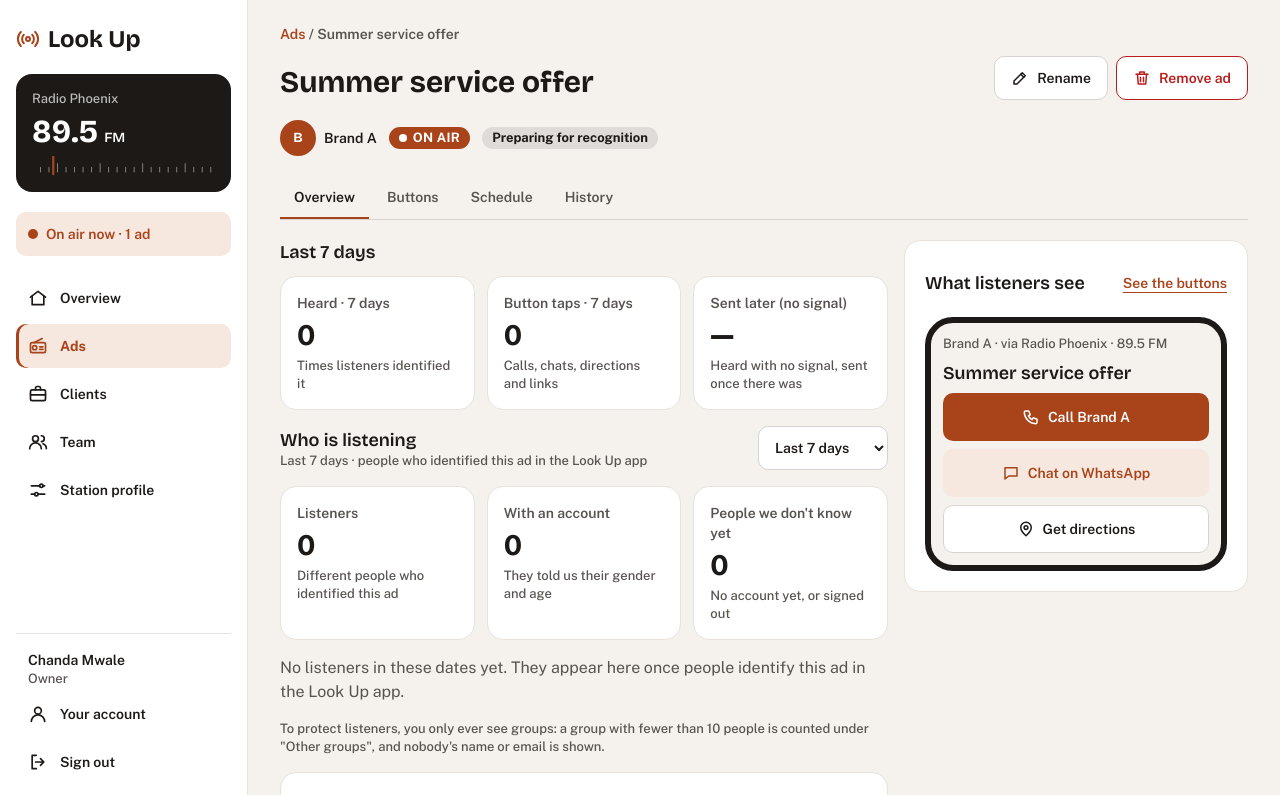
it: Ad page › tabs live in the address › choosing a tab changes the address
The image size is (1280, 795).
Click the link "Buttons" at (413, 196), box top-left (387, 188), bottom-right (438, 204)
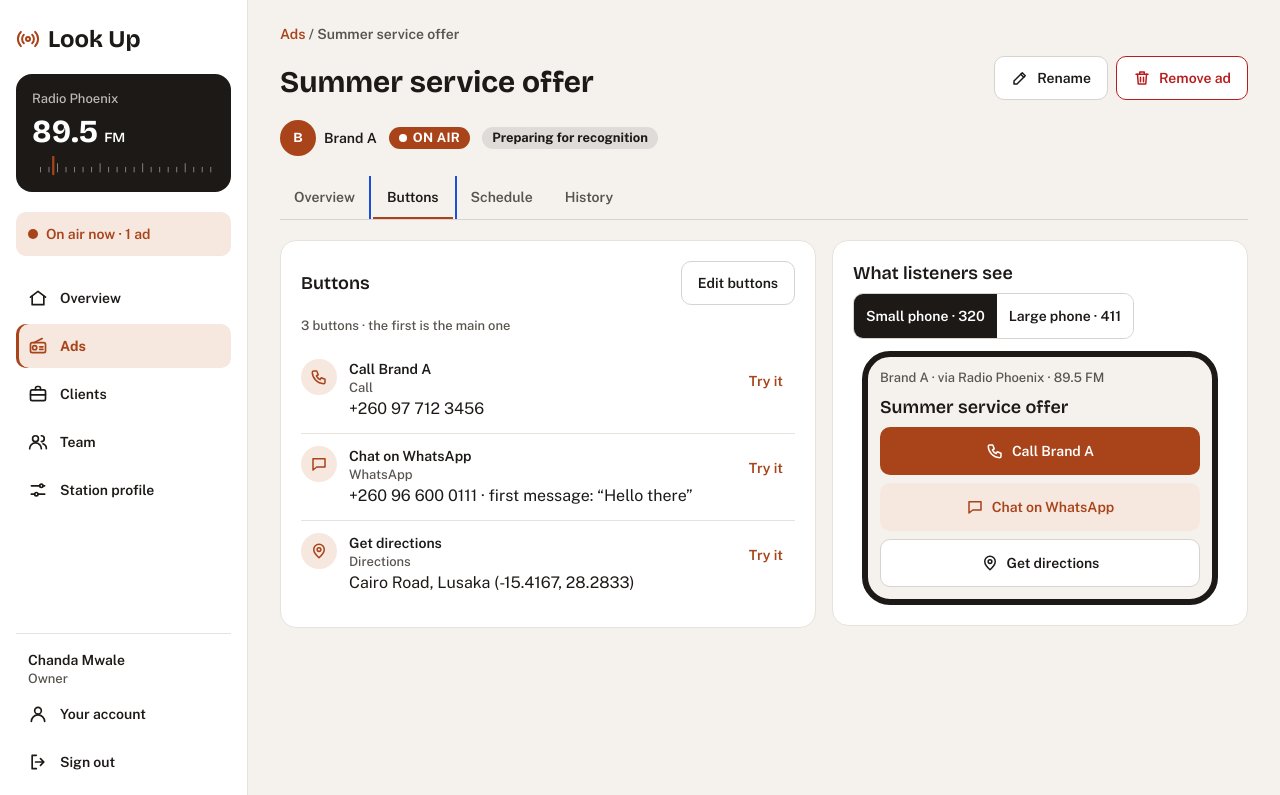
expect the element "Buttons" is shown: met, box top-left (280, 240), bottom-right (816, 628)
